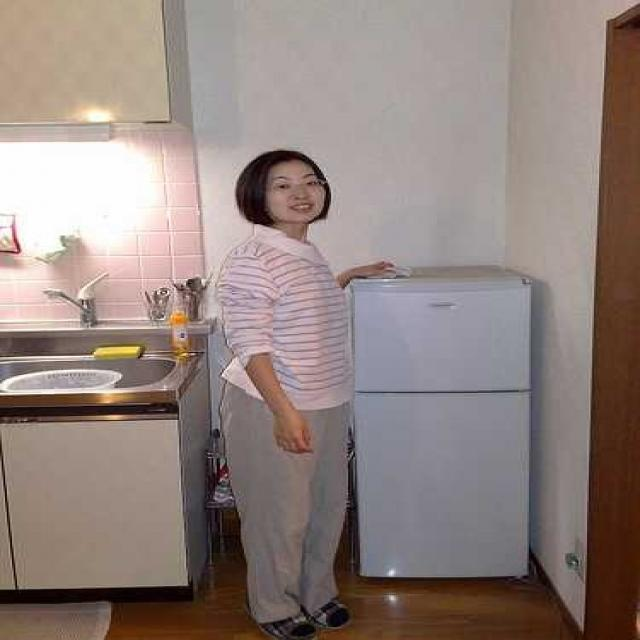refrigerator: (350, 282, 536, 577)
